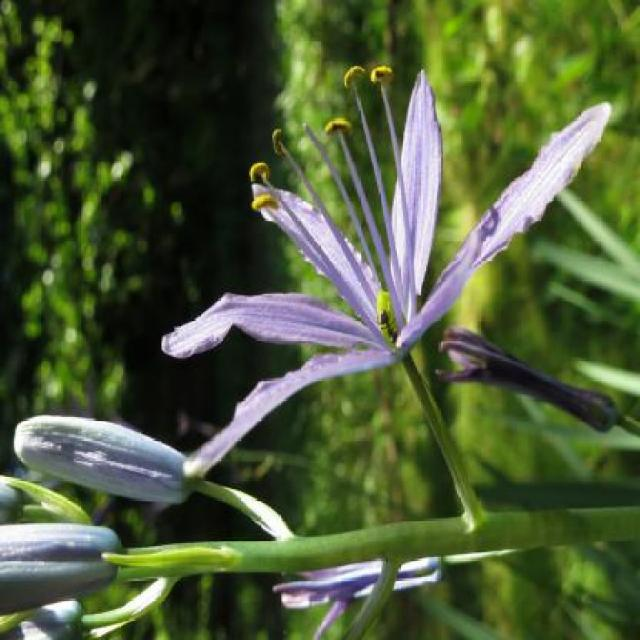Zucchini: (9, 410, 205, 508)
